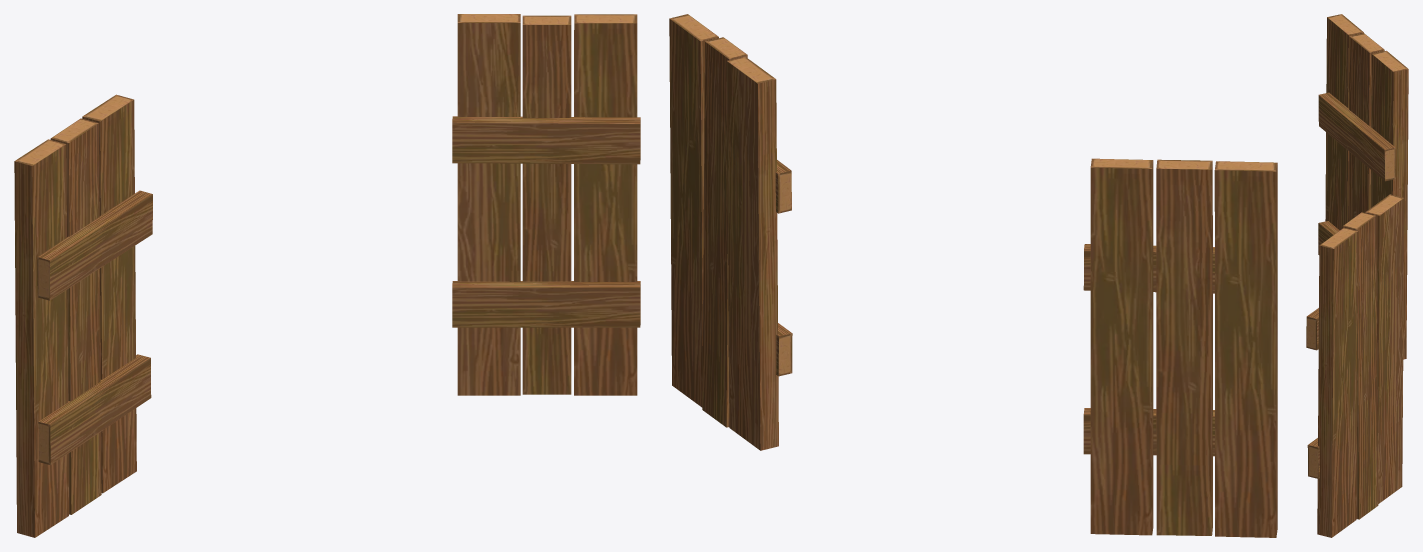
Rendered from windowshutters_wide_flat_open.glb.
The picture shows the model from 3 angles, left to right: view 1: azimuth 30°, elevation 25°; view 2: azimuth 150°, elevation 25°; view 3: azimuth 270°, elevation 25°; orthographic projection. The views are drawn at different scales.
Bounding box in the file's own units: 2.48 × 1.42 × 0.4565.
Materials: 1 (1 with a texture image).
